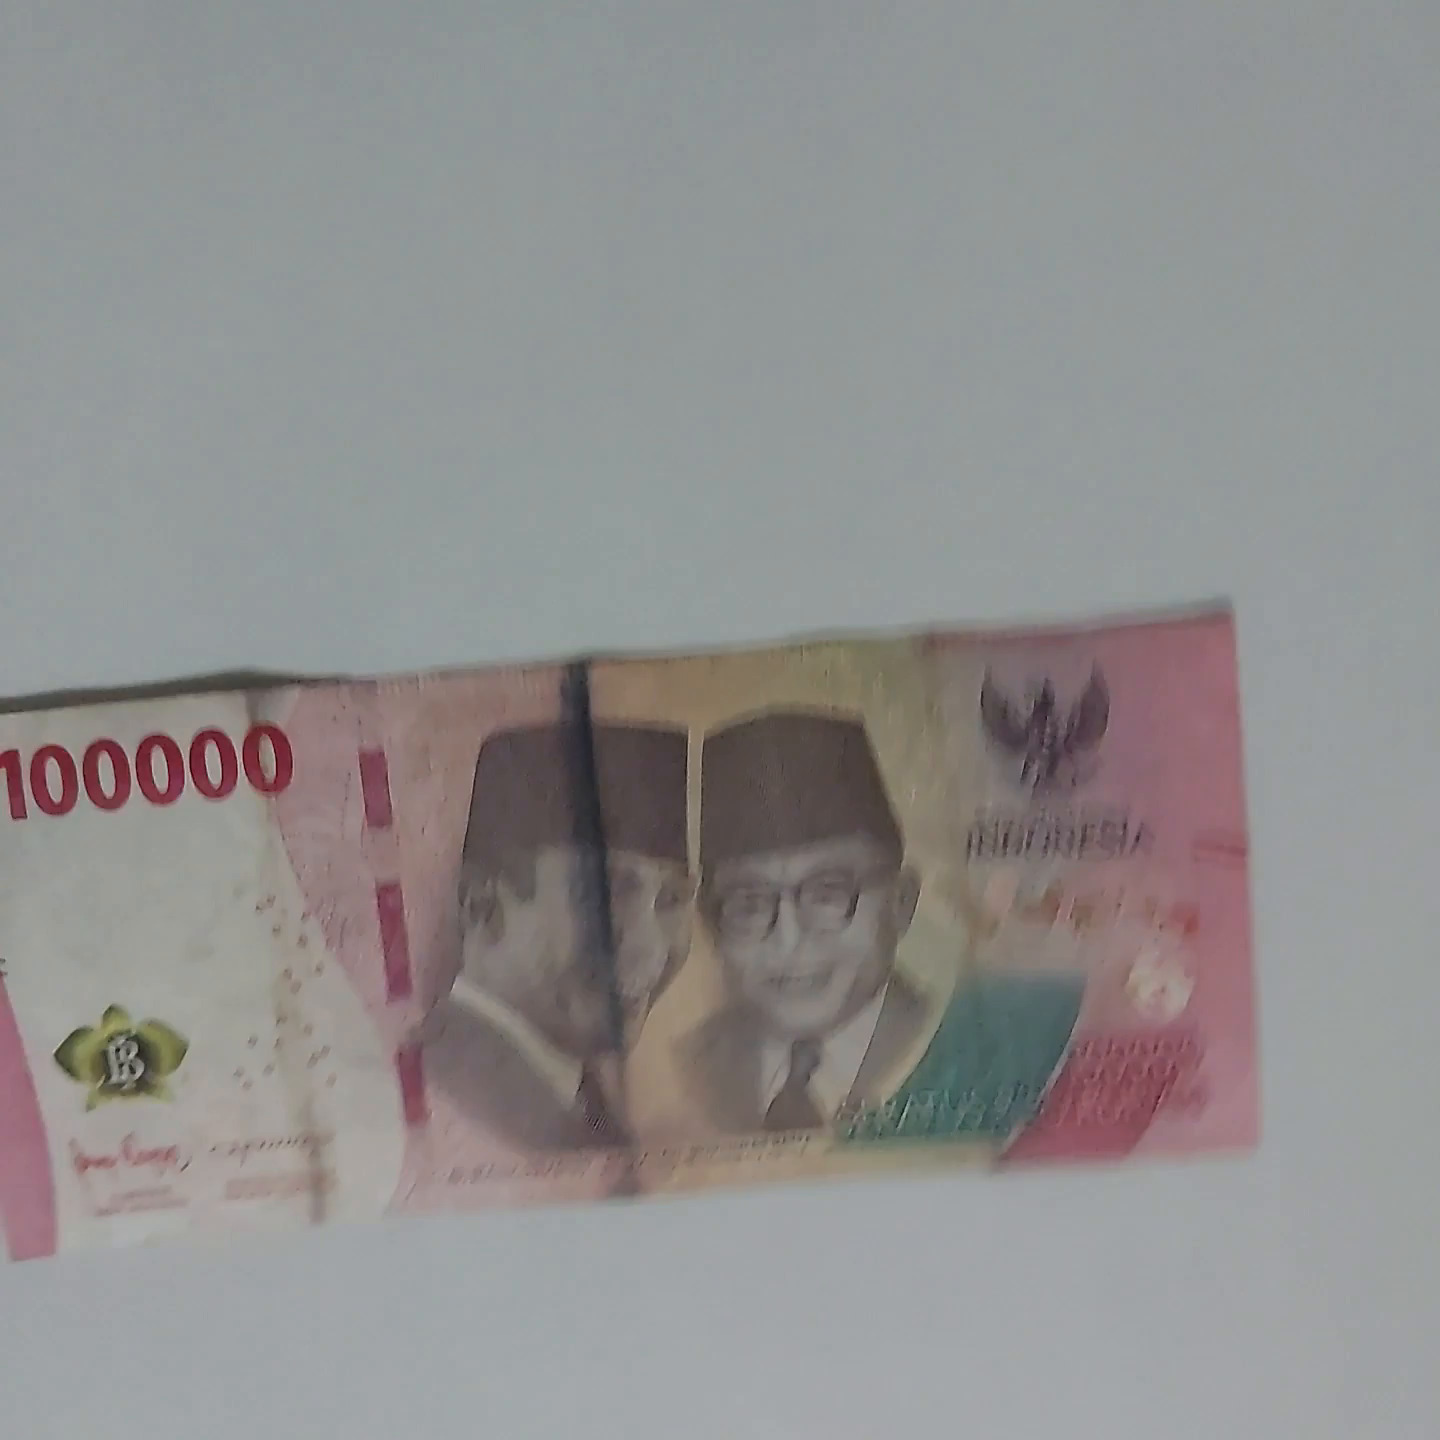100k: (0, 578, 1286, 1265)
